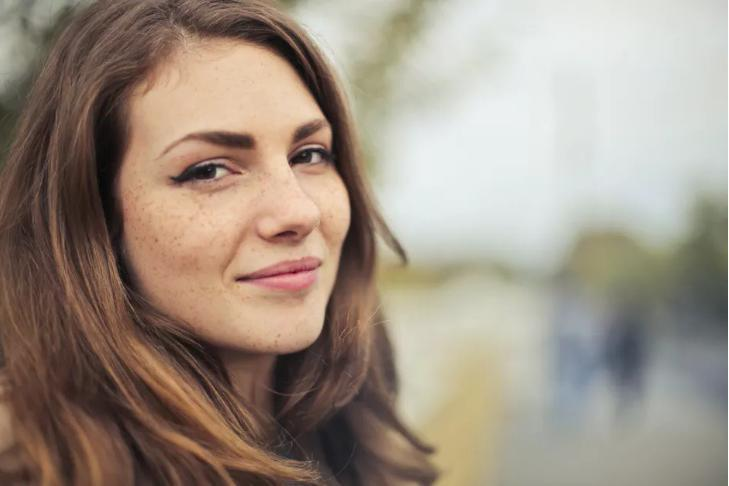face: (126, 42, 351, 352)
